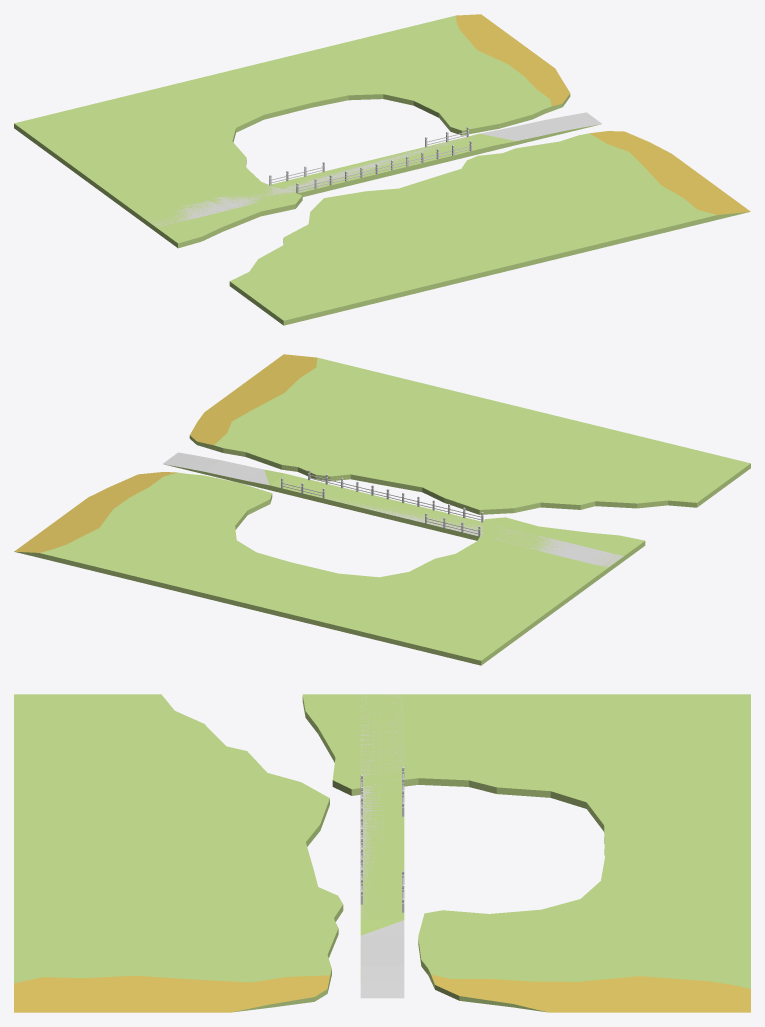
File: final ground.fbx
The picture shows the model from 3 angles, top to bottom: view 1: azimuth 30°, elevation 25°; view 2: azimuth 150°, elevation 25°; view 3: azimuth 270°, elevation 25°; orthographic projection. The views are drawn at different scales.
Parts seen in each view (by area): view 1: 平面.018, 平面.019, 立方体.001; view 2: 平面.018, 平面.019, 立方体.001; view 3: 平面.018, 平面.019, 立方体.001.
Boxes of the visible parts, x1=… form: 平面.018: x1=14, y1=14, x2=750, y2=325; 平面.019: x1=146, y1=112, x2=601, y2=227; 立方体.001: x1=269, y1=127, x2=471, y2=193; 平面.018: x1=14, y1=354, x2=750, y2=665; 平面.019: x1=163, y1=452, x2=623, y2=567; 立方体.001: x1=281, y1=470, x2=483, y2=536; 平面.018: x1=14, y1=694, x2=750, y2=1012; 平面.019: x1=360, y1=694, x2=404, y2=998; 立方体.001: x1=360, y1=766, x2=404, y2=912.
Bounding box in the file's own units: 10000 × 300 × 10000.
